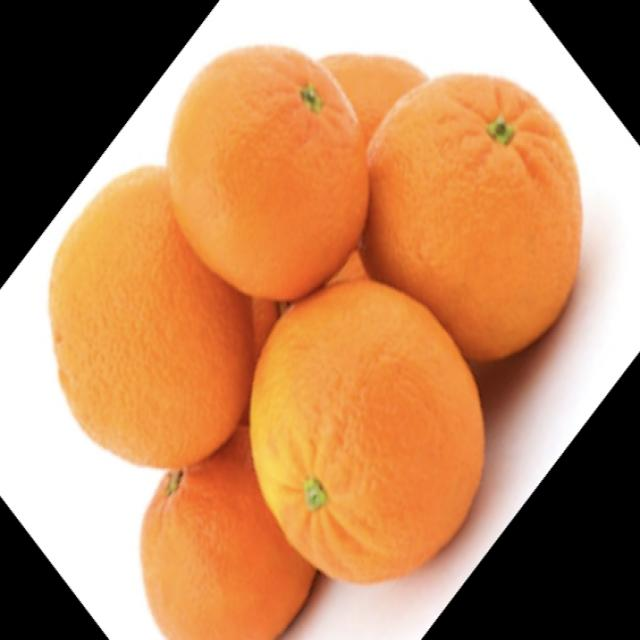fresh: (39, 27, 586, 640)
